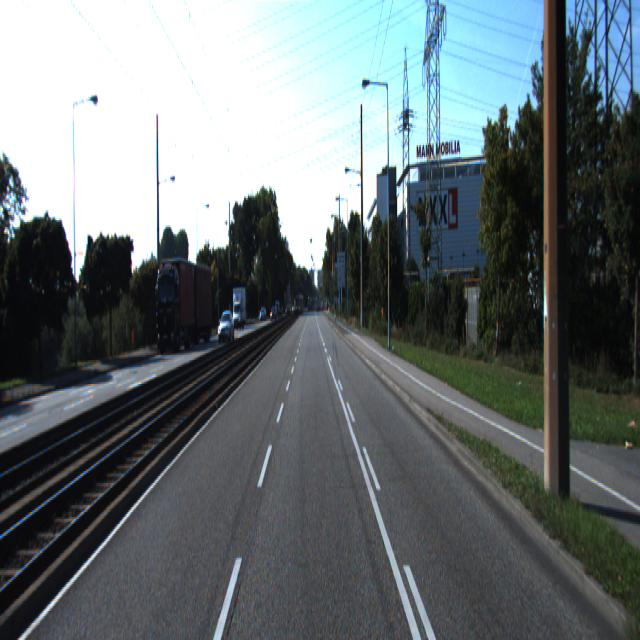Car: (153, 256, 196, 358), (180, 264, 213, 349), (217, 312, 235, 346)
